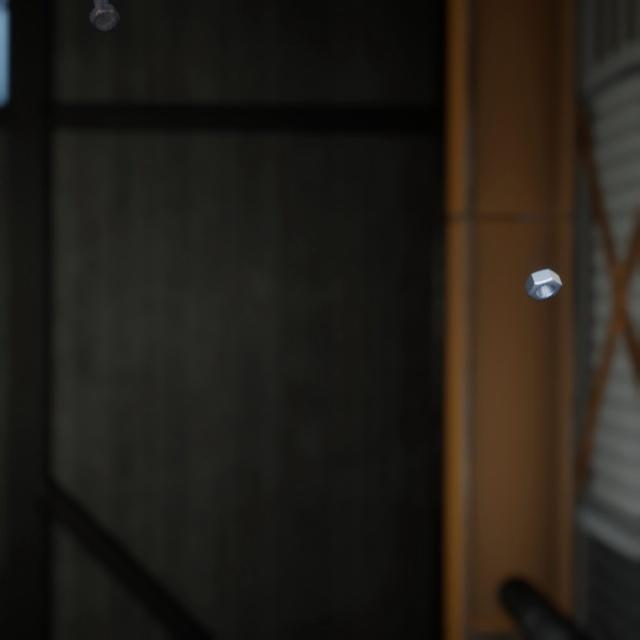bolt: (84, 0, 124, 29)
nut: (520, 247, 566, 289)
